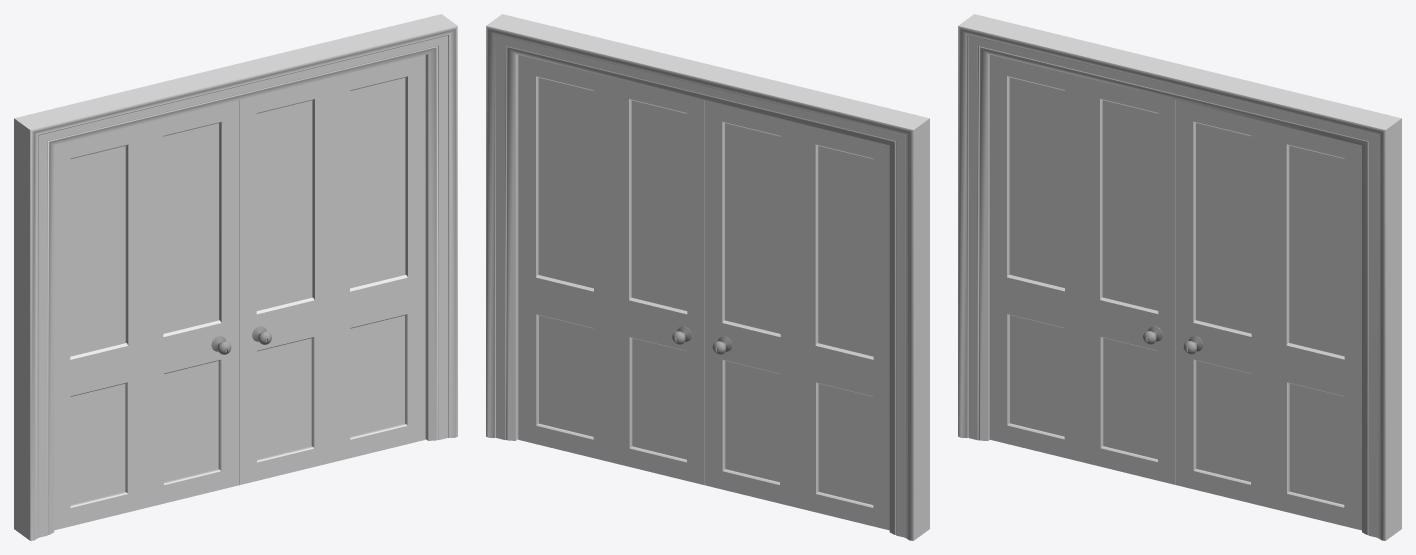
File: BifoldPanelDoorDouble001.glb
3 views of the same model, side by side, from view 1: azimuth 30°, elevation 25°; view 2: azimuth 150°, elevation 25°; view 3: azimuth 330°, elevation 25° (orthographic).
Parts seen in each view (by area): view 1: BifoldPanelDoor[door].001, BifoldPanelDoor[doorframe], BifoldPanelDoorKnob[handle]; view 2: BifoldPanelDoor[door].001, BifoldPanelDoor[doorframe], BifoldPanelDoorKnob[handle]; view 3: BifoldPanelDoor[door].001, BifoldPanelDoor[doorframe], BifoldPanelDoorKnob[handle].
Boxes of the visible parts, x1,y1,x2,y2 form: BifoldPanelDoor[door].001: (54,55,425,530); BifoldPanelDoor[doorframe]: (14,14,457,540); BifoldPanelDoorKnob[handle]: (211,326,271,354); BifoldPanelDoor[door].001: (518,55,889,530); BifoldPanelDoor[doorframe]: (486,14,929,540); BifoldPanelDoorKnob[handle]: (672,326,732,354); BifoldPanelDoor[door].001: (989,55,1361,530); BifoldPanelDoor[doorframe]: (958,14,1401,540); BifoldPanelDoorKnob[handle]: (1143,326,1203,354).
Bounding box in the file's own units: 2.37 × 2.17 × 0.2515.
Materials: 4 (4 with a texture image).
